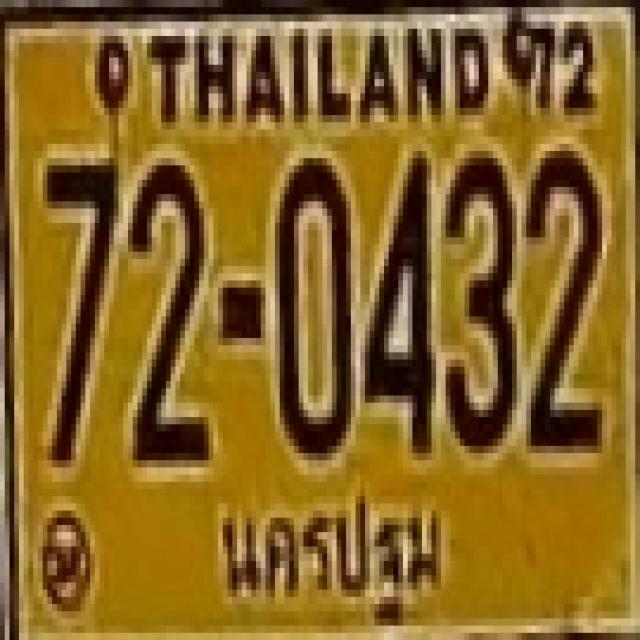0: (272, 151, 348, 453)
2: (128, 158, 204, 460), (522, 148, 598, 442), (524, 144, 600, 417)
3: (441, 148, 512, 450)
4: (361, 148, 432, 450)
7: (42, 158, 114, 460)
NPT: (208, 491, 451, 625)
